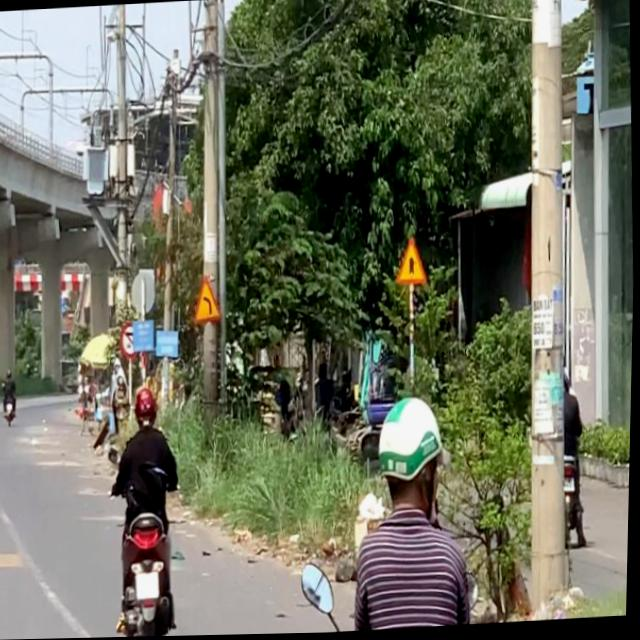Giao nhau voi duong khong uu tien ben phai: (395, 234, 430, 288)
cho ngoat nguy hiem vong ben trai: (191, 273, 226, 328)
